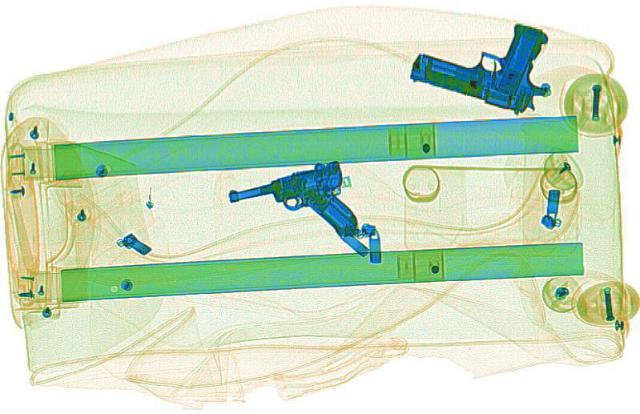Gun: (396, 4, 592, 115), (216, 159, 377, 251)
